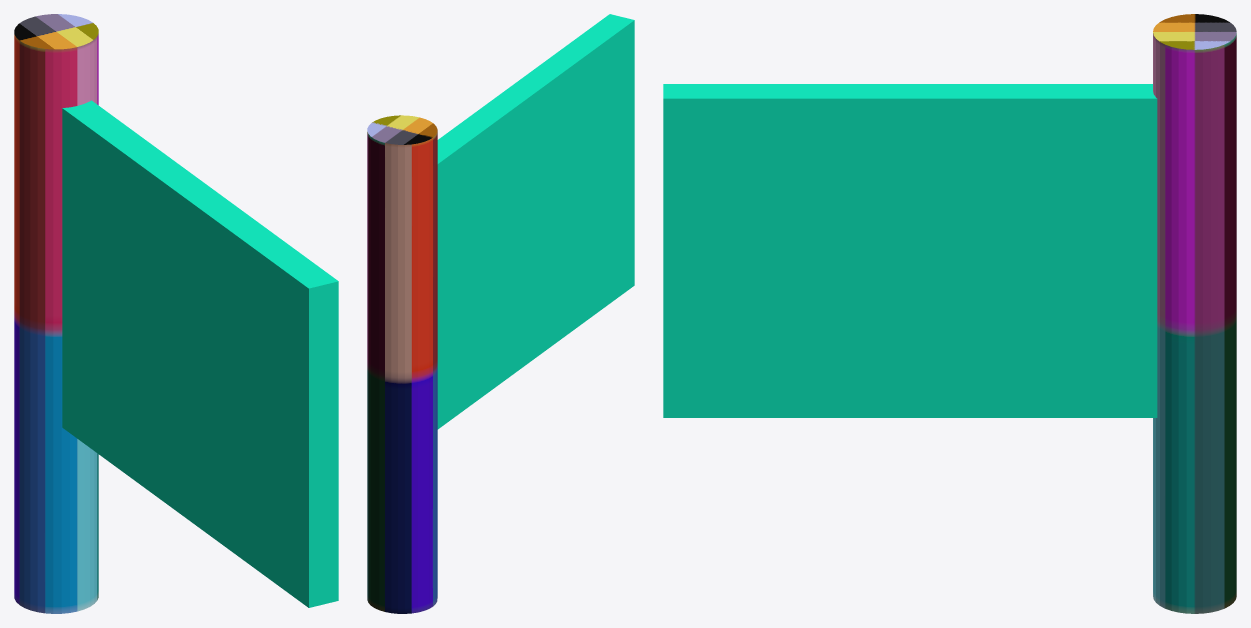
The model's file is Bandera1.fbx.
3 renders of one model, left to right at view 1: azimuth 30°, elevation 25°; view 2: azimuth 150°, elevation 25°; view 3: azimuth 270°, elevation 25°, orthographic. The views are drawn at different scales.
Visible parts, largest first — view 1: Cylinder; view 2: Cylinder; view 3: Cylinder.
Part boxes in pixels (<box>): Cylinder: <box>14,14,338,613</box>; Cylinder: <box>367,14,634,613</box>; Cylinder: <box>663,14,1236,613</box>.
Size of the model in its own units: 36.02 by 264 by 243.
Materials: 1 (1 with a texture image).
